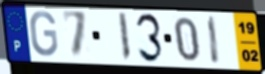0: (172, 16, 202, 63)
3: (133, 12, 164, 65)
7: (60, 9, 89, 61)
G: (28, 10, 60, 58)
I: (117, 11, 133, 63), (206, 14, 221, 66)
